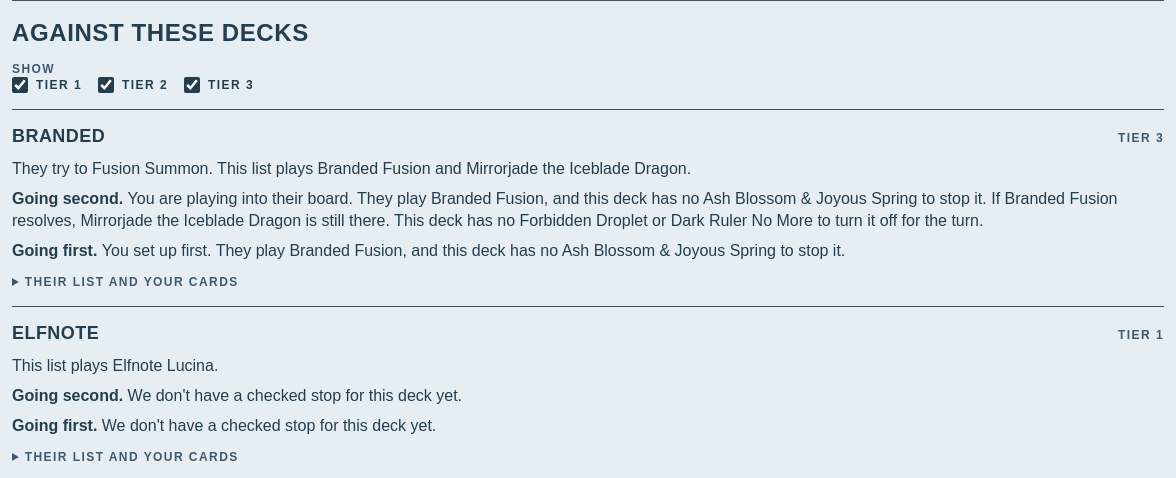
Test: NamedMatchupPlans › filters a tier and has no axe violations
Expected: the heading "Against these decks" is shown, [12,19,309,46]
Expected: the heading "Branded" is shown, [12,122,105,150]
Click the checkbox named "Show Tier 3" at (192, 85), box [184,77,200,93]
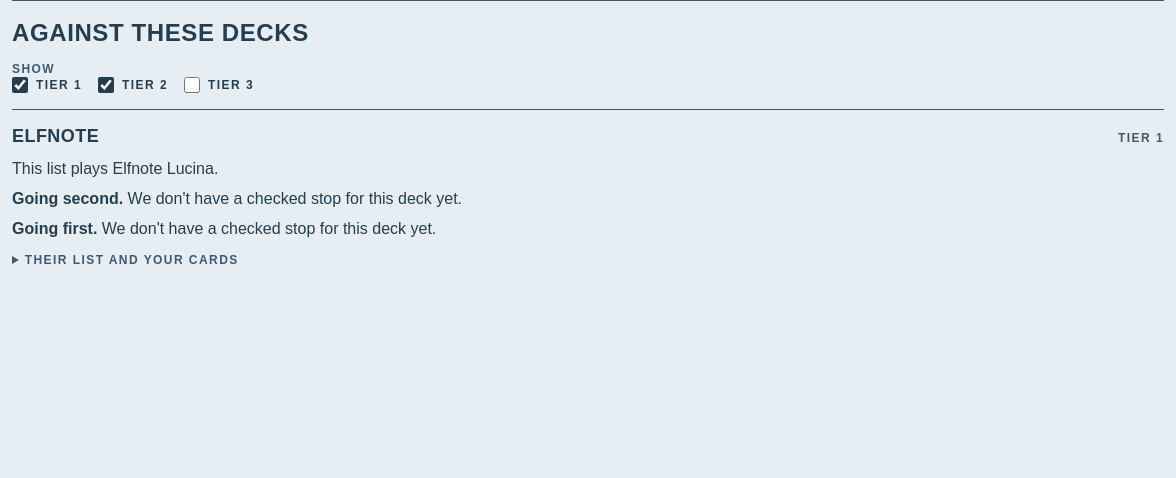
Expected: the heading "Elfnote" is shown, [12,122,99,150]
Expected: the heading "Branded" is gone
